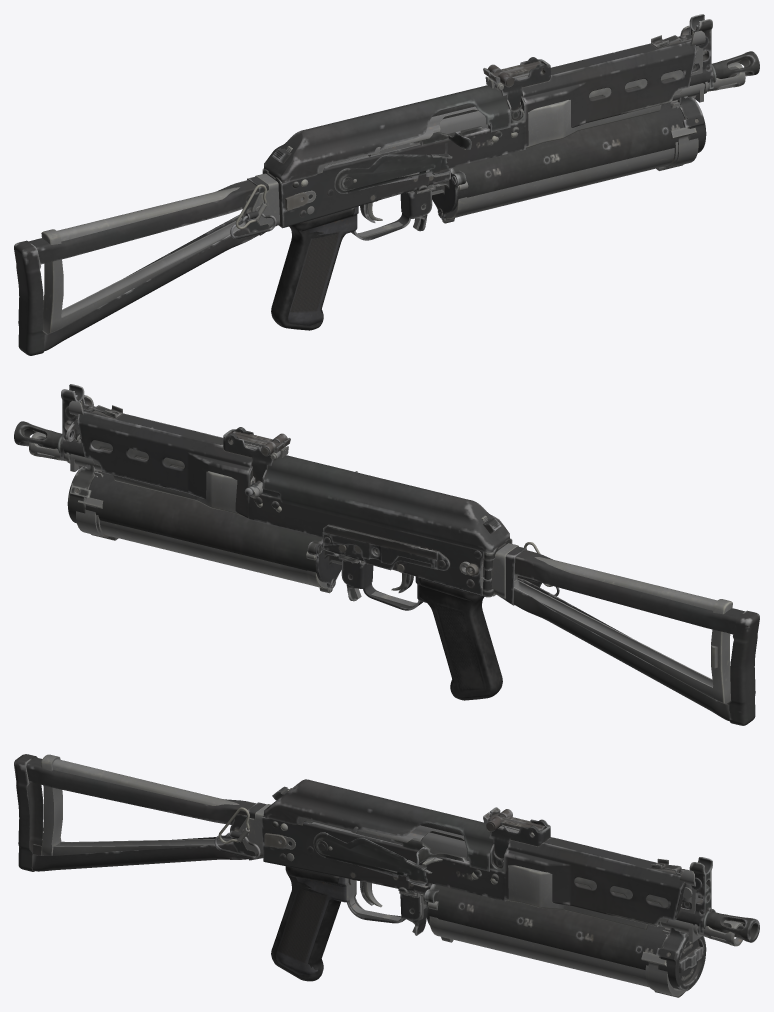
The model's file is weapon_bizon.glb.
3 renders of one model, top to bottom at view 1: azimuth 30°, elevation 25°; view 2: azimuth 150°, elevation 25°; view 3: azimuth 330°, elevation 25°, orthographic.
Parts seen in each view (by area): view 1: weapons/models/bizon/weapon_smg_bizon.vmdl_c.body_hd, weapons/models/bizon/weapon_smg_bizon.vmdl_c.body_legacy; view 2: weapons/models/bizon/weapon_smg_bizon.vmdl_c.body_hd, weapons/models/bizon/weapon_smg_bizon.vmdl_c.body_legacy; view 3: weapons/models/bizon/weapon_smg_bizon.vmdl_c.body_hd, weapons/models/bizon/weapon_smg_bizon.vmdl_c.body_legacy.
Part boxes in pixels (bbox=[...]): weapons/models/bizon/weapon_smg_bizon.vmdl_c.body_hd: bbox=[14, 14, 759, 355]; weapons/models/bizon/weapon_smg_bizon.vmdl_c.body_legacy: bbox=[41, 25, 745, 333]; weapons/models/bizon/weapon_smg_bizon.vmdl_c.body_hd: bbox=[14, 384, 759, 725]; weapons/models/bizon/weapon_smg_bizon.vmdl_c.body_legacy: bbox=[29, 395, 732, 703]; weapons/models/bizon/weapon_smg_bizon.vmdl_c.body_hd: bbox=[14, 754, 759, 991]; weapons/models/bizon/weapon_smg_bizon.vmdl_c.body_legacy: bbox=[41, 754, 744, 997].
Bounding box in the file's own units: 31.53 × 8.79 × 3.39.
Materials: 2 (2 with a texture image).
